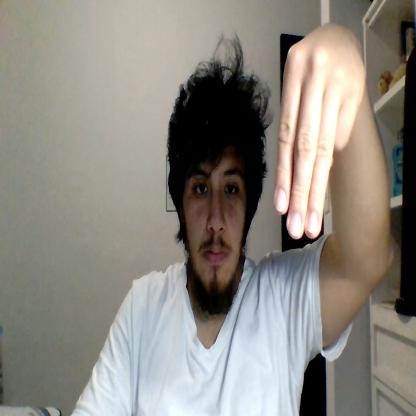M: (274, 38, 360, 241)
